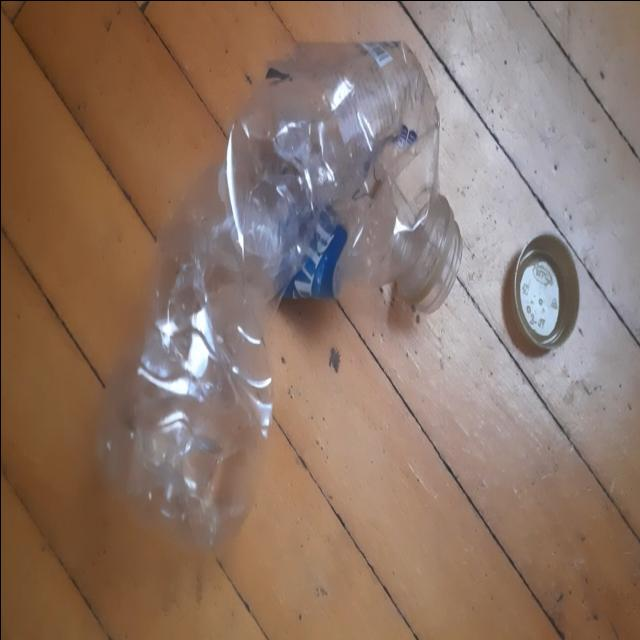Plastic: (96, 40, 462, 553)
